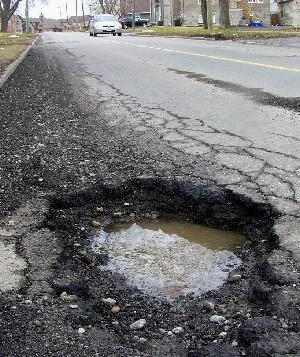pothole: (43, 175, 285, 357)
